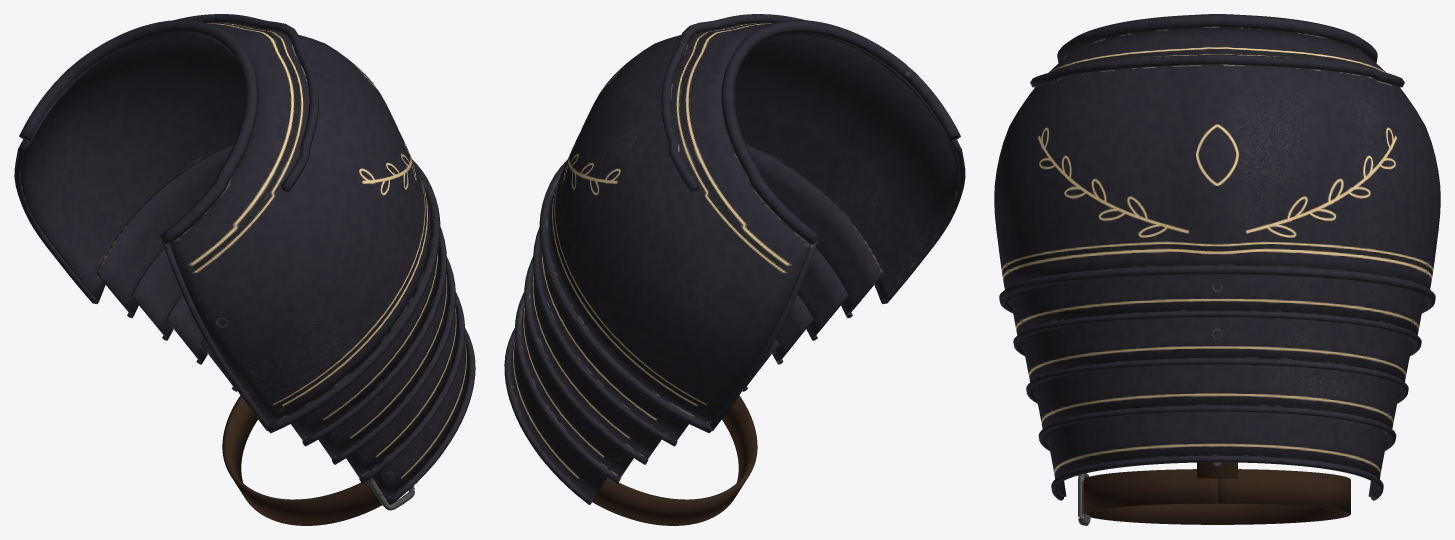
The model's file is SM_ObsidianSovereign_Shoulders_L.fbx.
3 views of the same model, side by side, from view 1: azimuth 30°, elevation 25°; view 2: azimuth 150°, elevation 25°; view 3: azimuth 270°, elevation 25° (orthographic).
Visible parts, largest first — view 1: SM_ObsidianSovereign_Shoulders_L; view 2: SM_ObsidianSovereign_Shoulders_L; view 3: SM_ObsidianSovereign_Shoulders_L.
Part boxes in pixels (x1=…): SM_ObsidianSovereign_Shoulders_L: x1=14, y1=14, x2=475, y2=525; SM_ObsidianSovereign_Shoulders_L: x1=504, y1=14, x2=965, y2=525; SM_ObsidianSovereign_Shoulders_L: x1=994, y1=14, x2=1440, y2=525.
Size of the model in its own units: 26.76 by 28.49 by 34.74.
